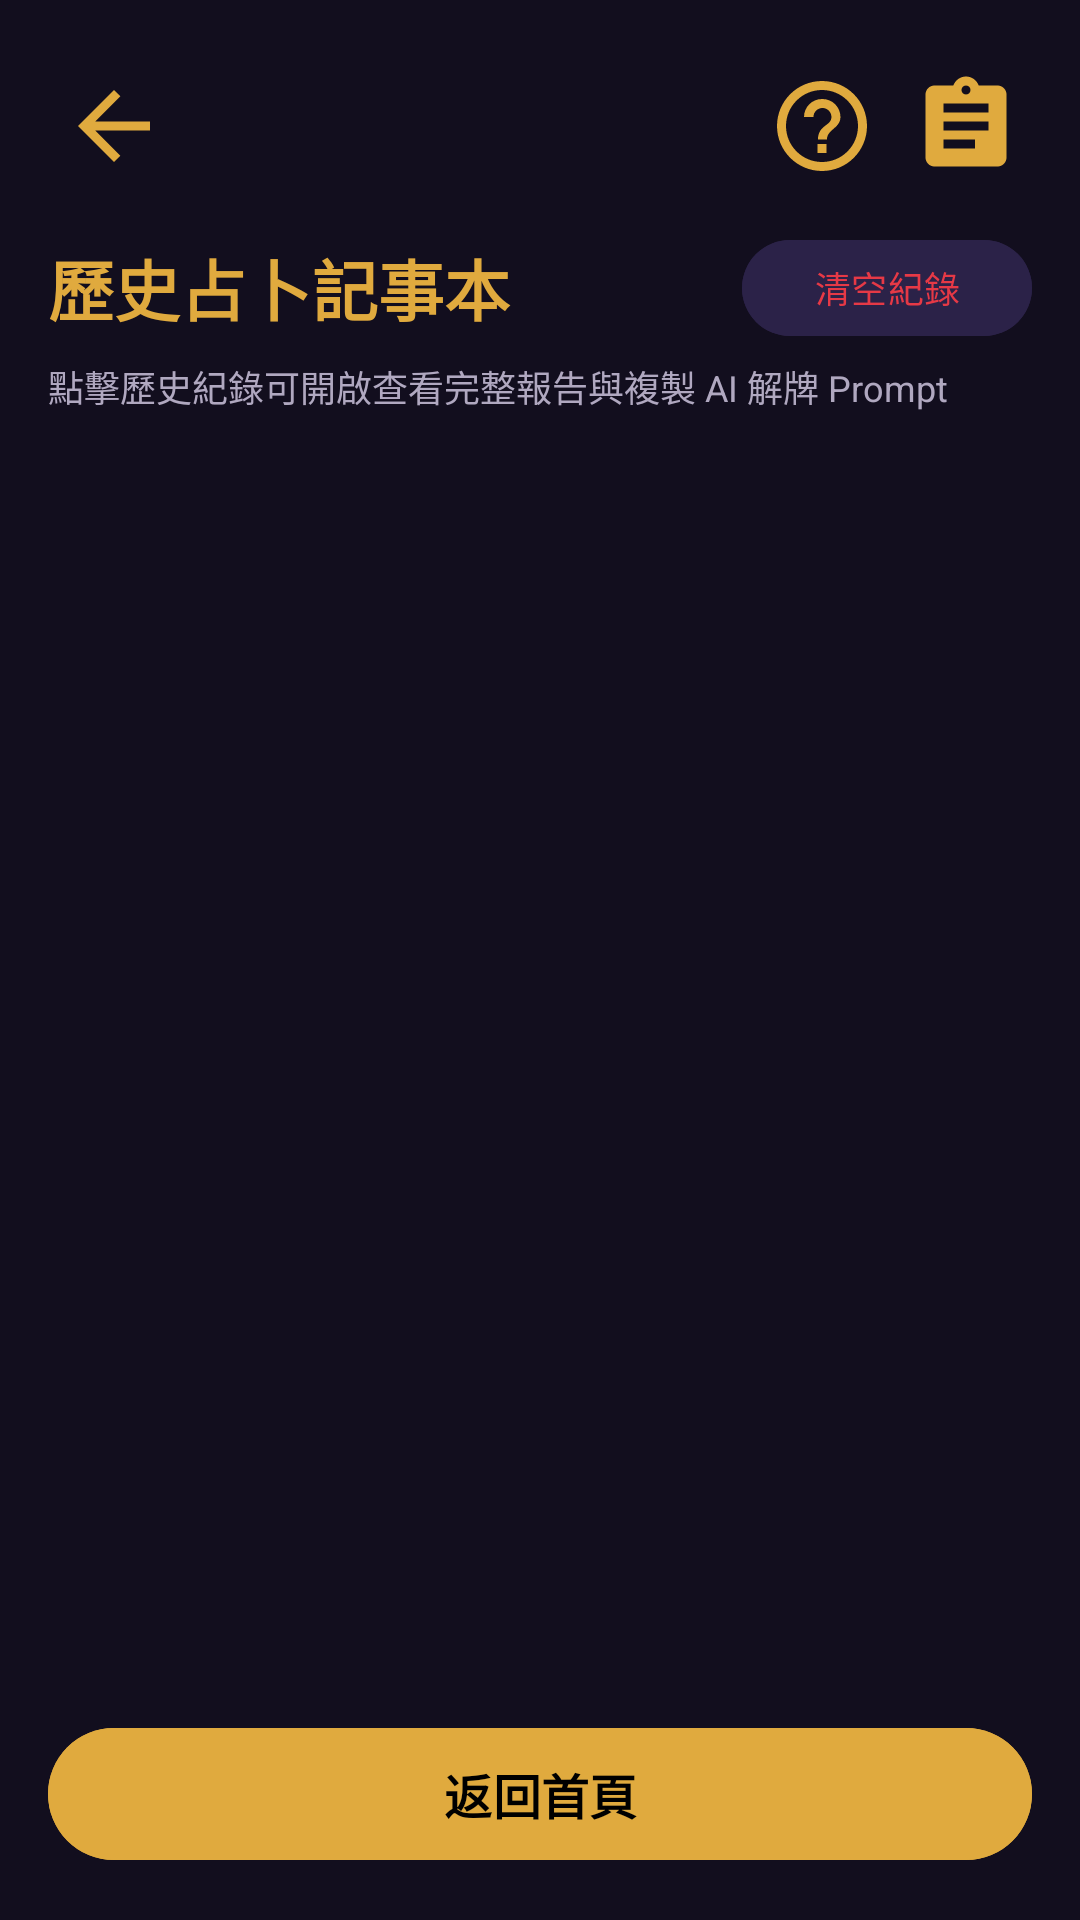

Screen size 1080x1920. Icon name, then its box in pixels as (x1, y1, x2, y2):
使用說明: (777, 81, 867, 171)
歷史記事本: (925, 76, 1007, 167)
返回上一頁: (78, 90, 150, 162)
